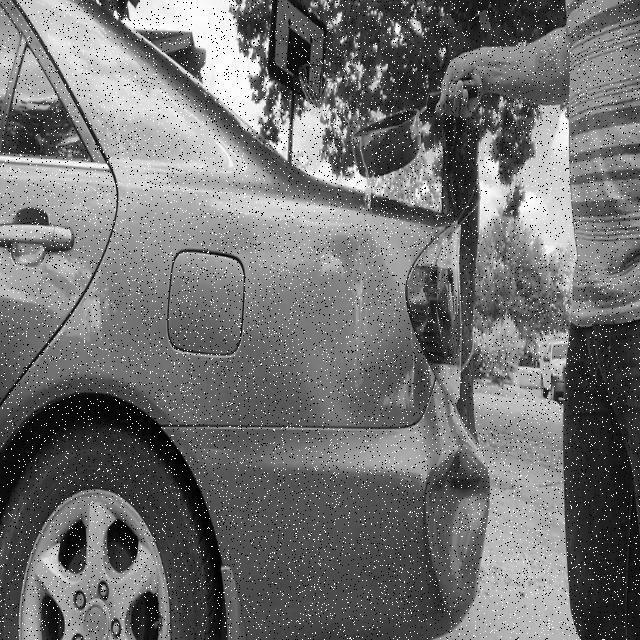rear-bumper-dent: (211, 411, 509, 639)
